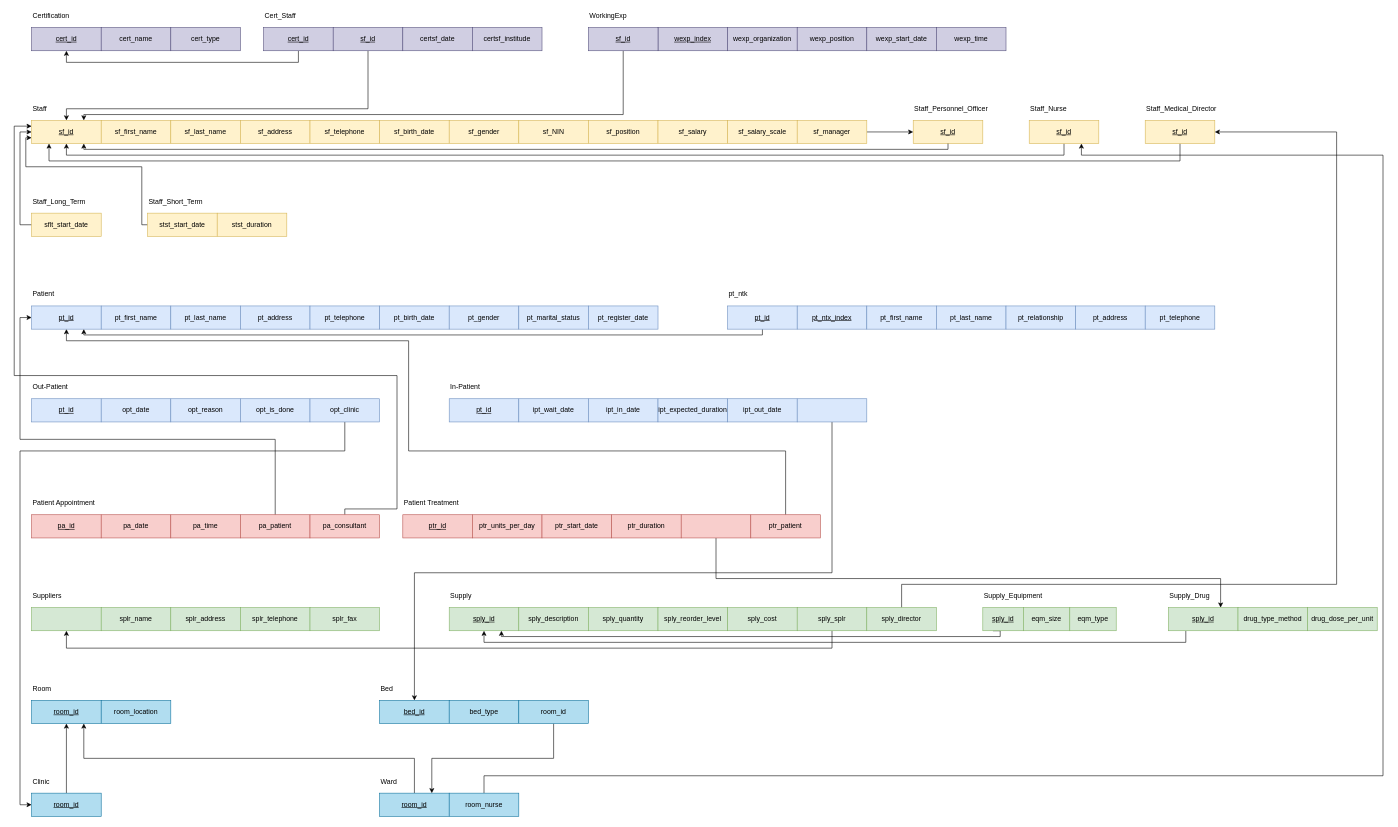
This 1398x827 diagram has some shape labels left out. Here are the shapes that lost their labels. From the top down, the box of each, then its label:
(797, 398, 867, 422): ipt_bed
(681, 514, 751, 538): ptr_drug
(31, 607, 101, 631): splr_id
